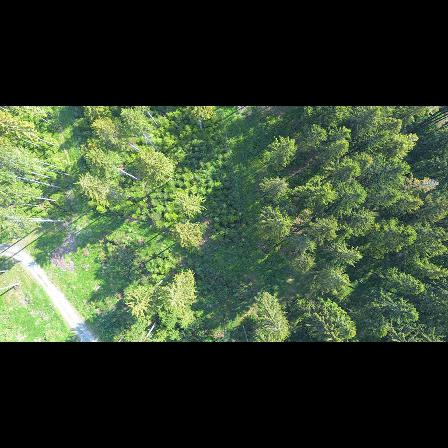Dead: (405, 176, 441, 195)
